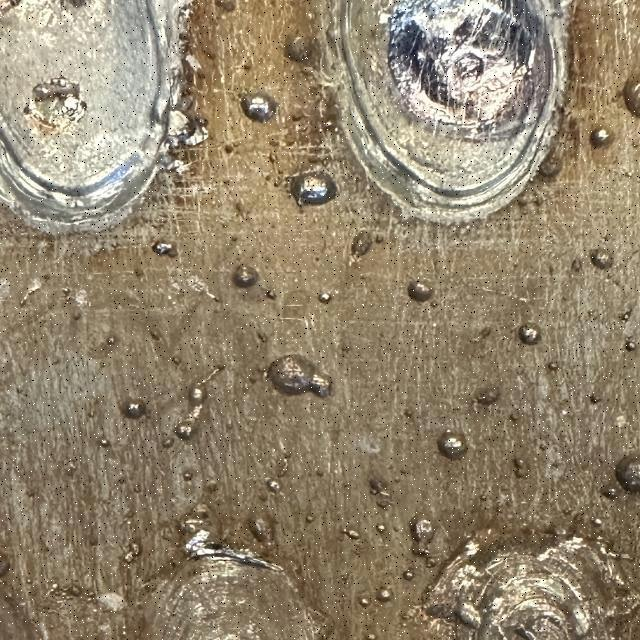Excess Reinforcement: (557, 536, 638, 640), (423, 538, 487, 640), (197, 542, 283, 572), (177, 510, 227, 558), (163, 110, 208, 152)
Spatters: (267, 354, 332, 398), (292, 171, 337, 205), (283, 34, 320, 66), (240, 92, 278, 122), (178, 468, 218, 496), (615, 452, 640, 492), (247, 514, 275, 548), (437, 431, 467, 460), (368, 478, 393, 509), (622, 74, 640, 117), (410, 518, 435, 543), (232, 265, 258, 288), (20, 279, 42, 306), (188, 380, 208, 408), (407, 281, 433, 302), (352, 230, 372, 256), (120, 541, 142, 563), (122, 400, 147, 419), (152, 240, 178, 258), (590, 129, 613, 149), (590, 249, 613, 269), (473, 388, 500, 405), (518, 325, 542, 344), (173, 422, 193, 439), (0, 551, 12, 577), (207, 362, 225, 379), (513, 458, 527, 478), (215, 0, 237, 12), (600, 486, 618, 499), (265, 479, 280, 494), (377, 588, 393, 602), (342, 529, 360, 540), (148, 328, 163, 341), (162, 436, 175, 449), (318, 292, 332, 304), (340, 340, 352, 354), (508, 411, 522, 422), (620, 310, 632, 322), (373, 232, 385, 244), (402, 408, 415, 419), (403, 570, 415, 581), (625, 340, 637, 351), (547, 361, 560, 371), (425, 558, 438, 568), (98, 439, 112, 448), (358, 598, 370, 608), (590, 394, 602, 404), (258, 330, 268, 342), (207, 293, 220, 302), (267, 290, 277, 300), (172, 356, 182, 366), (268, 152, 277, 163), (62, 288, 72, 297), (107, 336, 117, 345), (538, 442, 548, 451), (623, 171, 635, 178), (377, 524, 387, 532), (72, 312, 82, 320), (592, 519, 602, 526), (225, 145, 233, 153), (133, 485, 142, 492), (305, 515, 313, 522)
